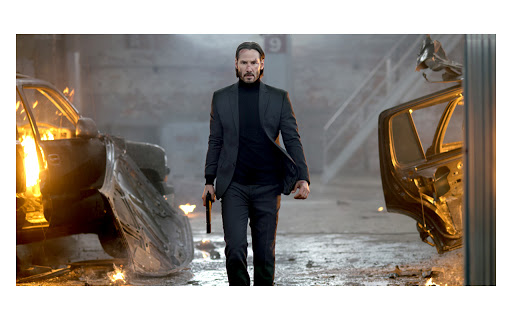gun: (197, 184, 220, 239)
